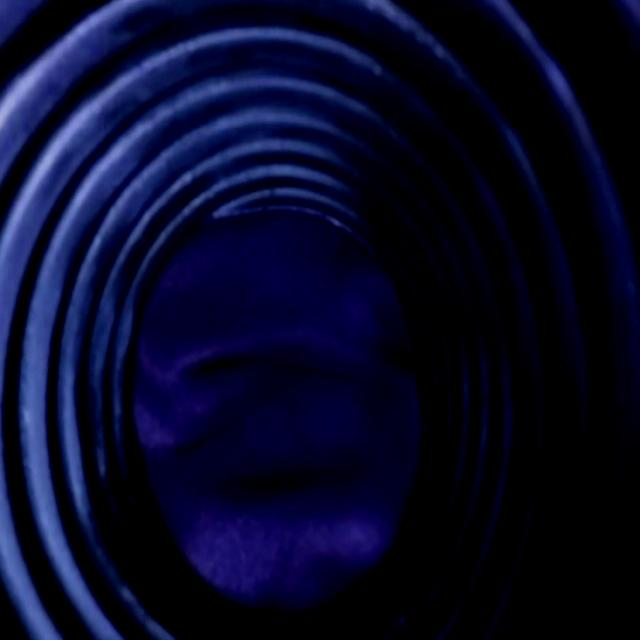block: (131, 213, 426, 594)
